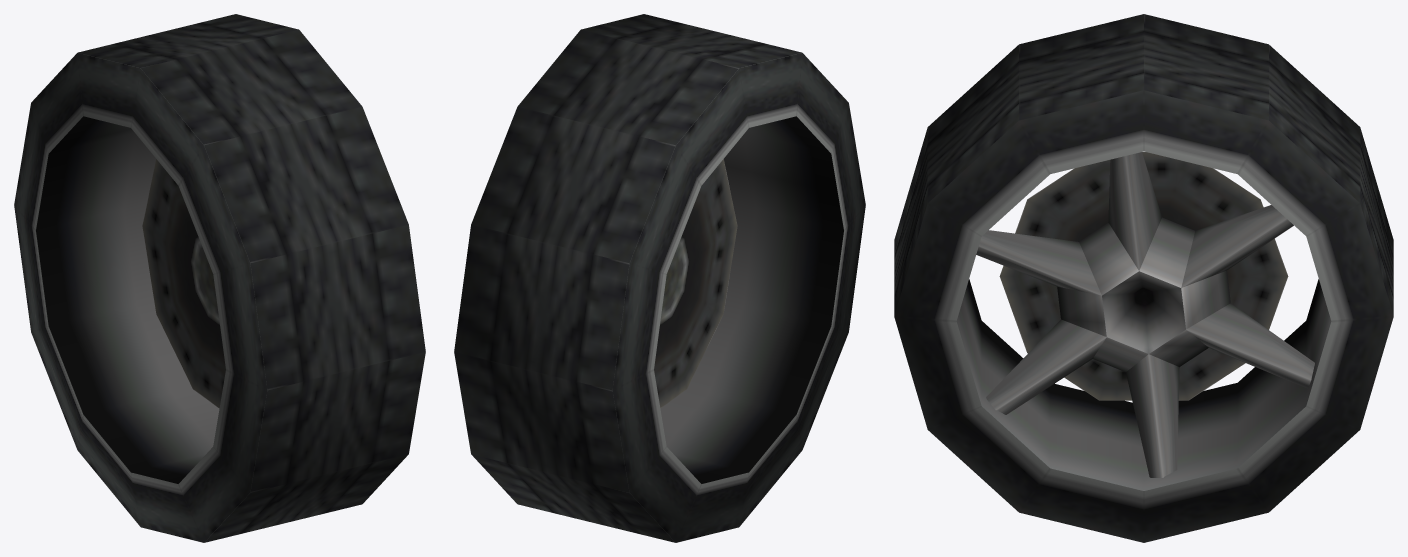
Rendered from DefaultWheel_jester.glb.
The picture shows the model from 3 angles, left to right: view 1: azimuth 30°, elevation 25°; view 2: azimuth 150°, elevation 25°; view 3: azimuth 270°, elevation 25°; orthographic projection.
Visible parts, largest first — view 1: wheel; view 2: wheel; view 3: wheel.
Boxes of the visible parts, <box> form: wheel: <box>14,14,425,542</box>; wheel: <box>454,14,865,542</box>; wheel: <box>894,14,1393,542</box>.
Bounding box in the file's own units: 0.281 × 0.6922 × 0.6922.
2 materials, 2 textured.
